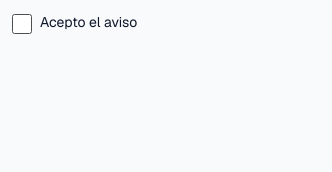
Scenario: campos de formulario › CheckboxField se puede marcar desde su etiqueta
Click the text "Acepto el aviso": (89, 22) top-left (40, 12), bottom-right (137, 32)
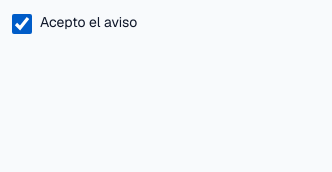
Check: the checkbox labelled "Acepto el aviso" is checked, box top-left (12, 14), bottom-right (32, 34)
